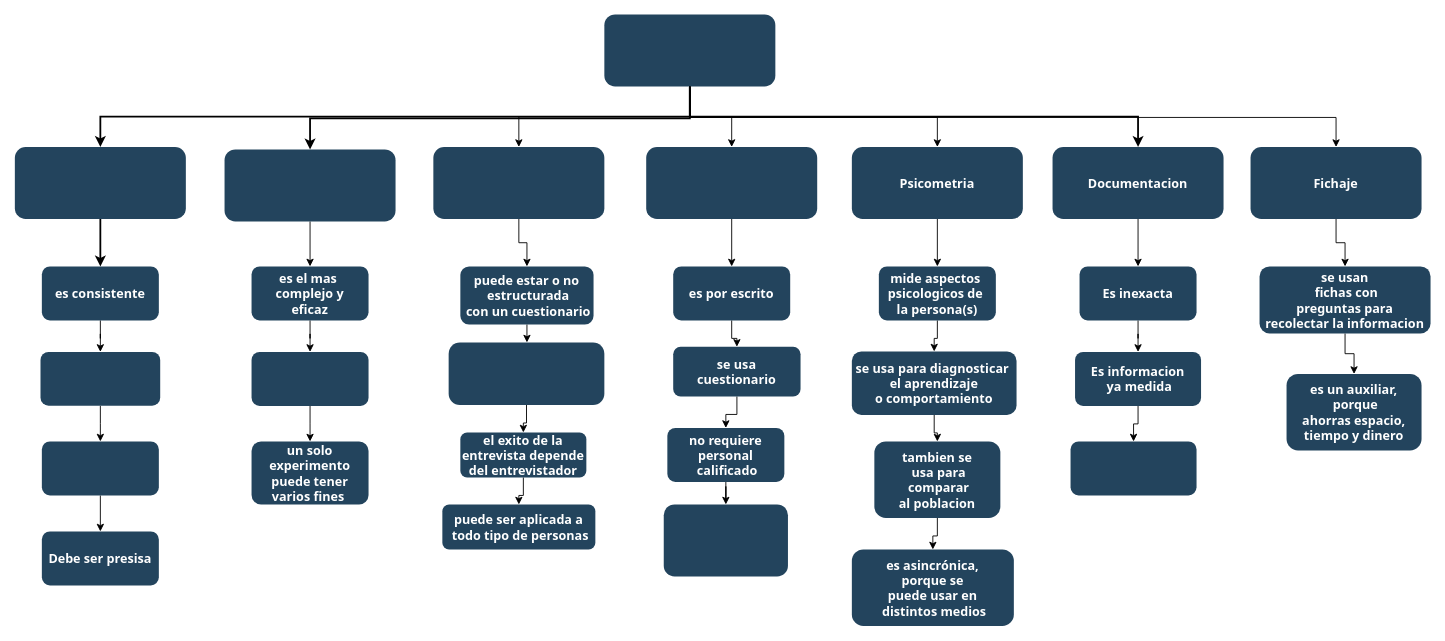
This 1445x641 diagram has some shape labels left out. Each missing label, with the box of its shape:
debe ser cuidadosamente planificada: (40, 351, 160, 405)
debe ser objetiva: (41, 441, 158, 495)
el investigador se guía de esta: (1070, 441, 1196, 495)
Encuesta: (646, 147, 817, 219)
Entrevista: (433, 147, 604, 219)
esta unido a la teoria: (251, 351, 368, 405)
Experimentacion: (224, 149, 395, 221)
Observacion: (14, 147, 185, 219)
persigue el objetivo de adquirír info acerca de las variables del estudio: (448, 342, 604, 405)
se usa para un grupo y no para una sola persona: (663, 504, 788, 576)
Técnicas de investigacion: (604, 14, 775, 86)
